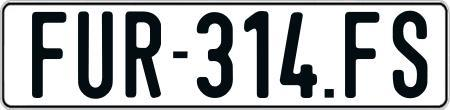1: (243, 8, 269, 101)
3: (197, 9, 235, 98)
4: (277, 11, 320, 97)
F: (31, 12, 67, 103), (344, 10, 378, 100)
R: (124, 11, 159, 104)
S: (390, 11, 428, 101)
U: (77, 11, 113, 105)
